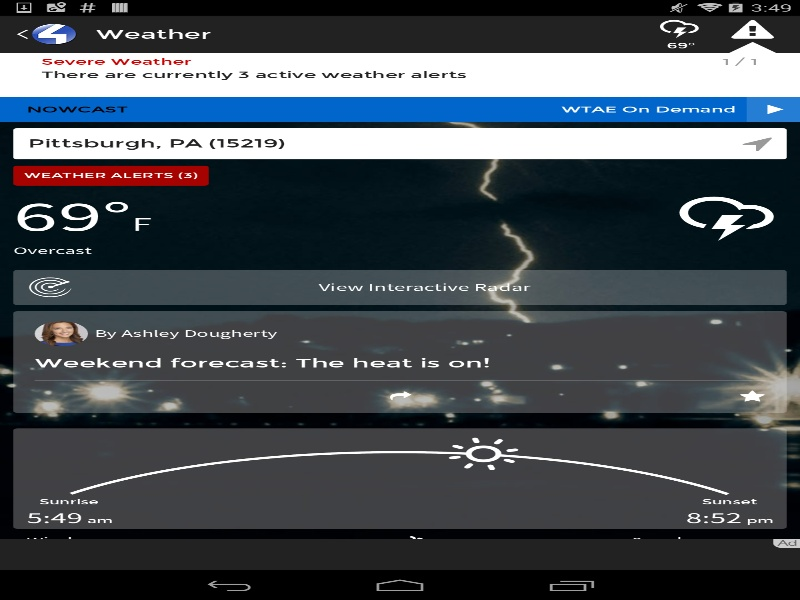Button: (13, 165, 208, 185), (10, 15, 85, 53)
Input: (14, 128, 742, 158)
